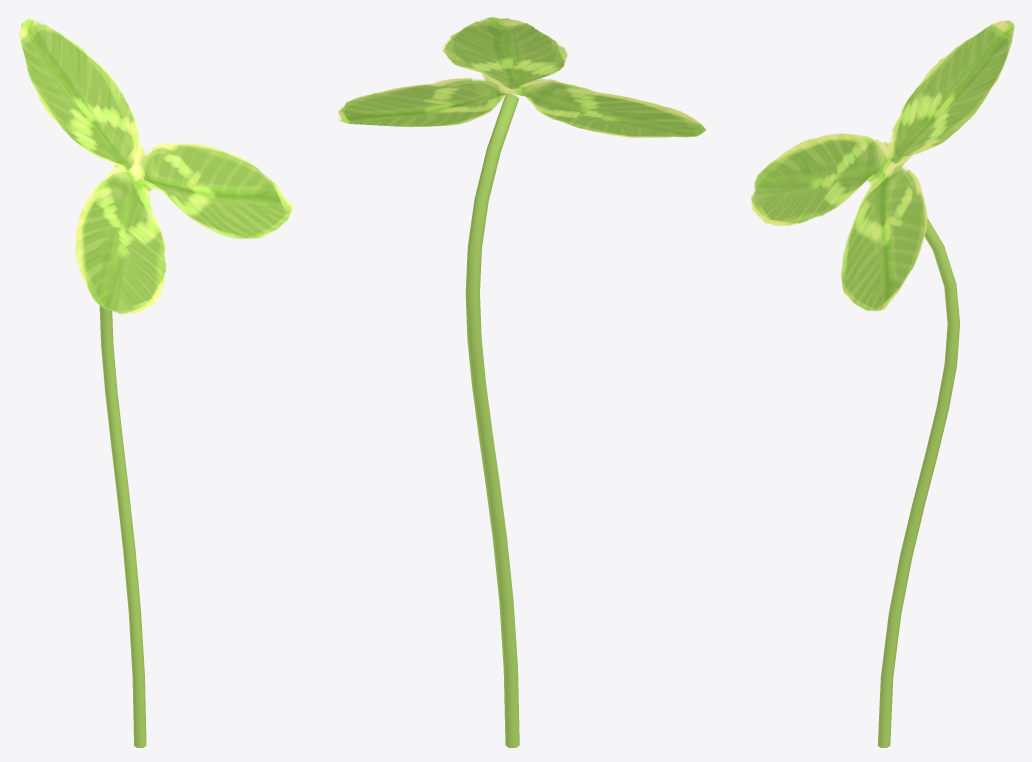
The model's file is little_clover.glb.
3 renders of one model, left to right at view 1: azimuth 30°, elevation 25°; view 2: azimuth 150°, elevation 25°; view 3: azimuth 270°, elevation 25°, orthographic. The views are drawn at different scales.
Visible parts, largest first — view 1: Plane.001_Plane.002; view 2: Plane.001_Plane.002; view 3: Plane.001_Plane.002.
Part boxes in pixels (x1,y1,x2,y2): Plane.001_Plane.002: (19,19,293,747); Plane.001_Plane.002: (338,17,706,747); Plane.001_Plane.002: (751,20,1014,747).
Size of the model in its own units: 0.836 by 2.03 by 0.7196.
1 material, 1 textured.
